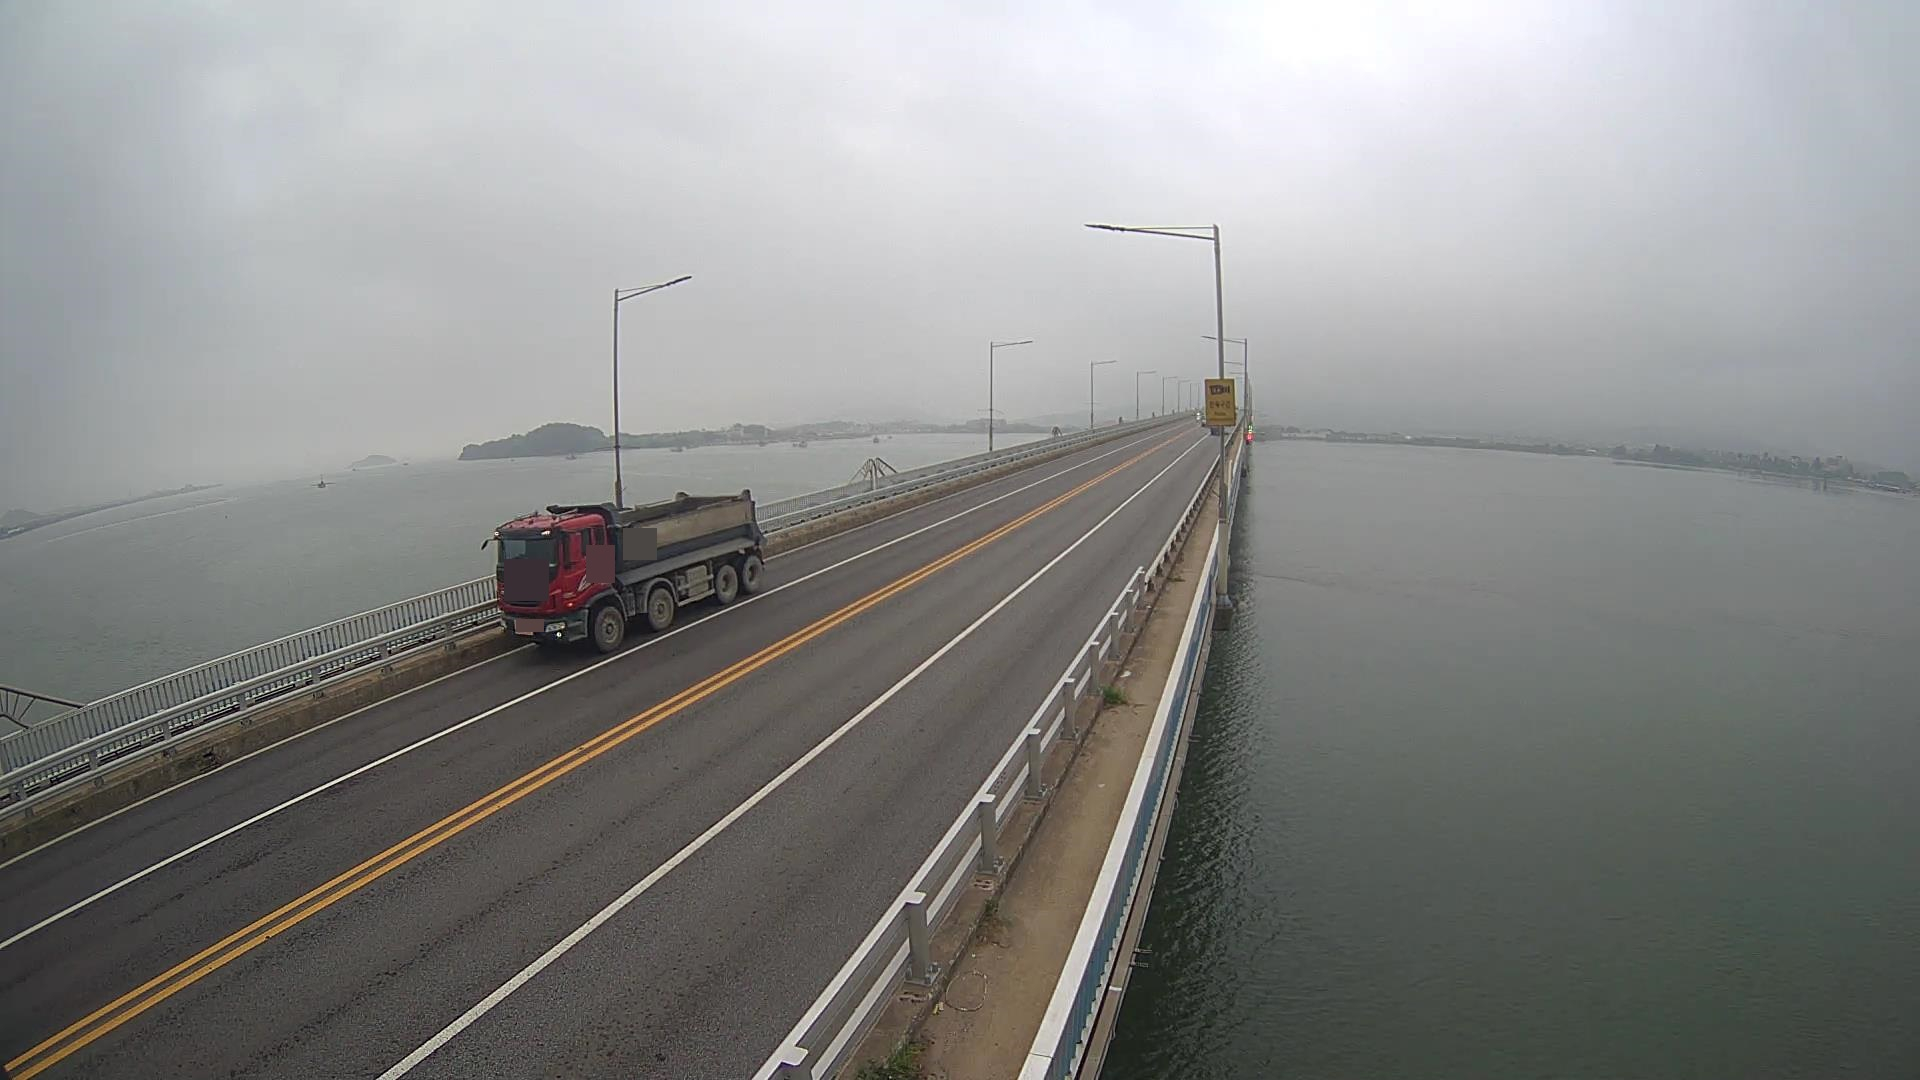정상차량: (480, 488, 767, 651)
